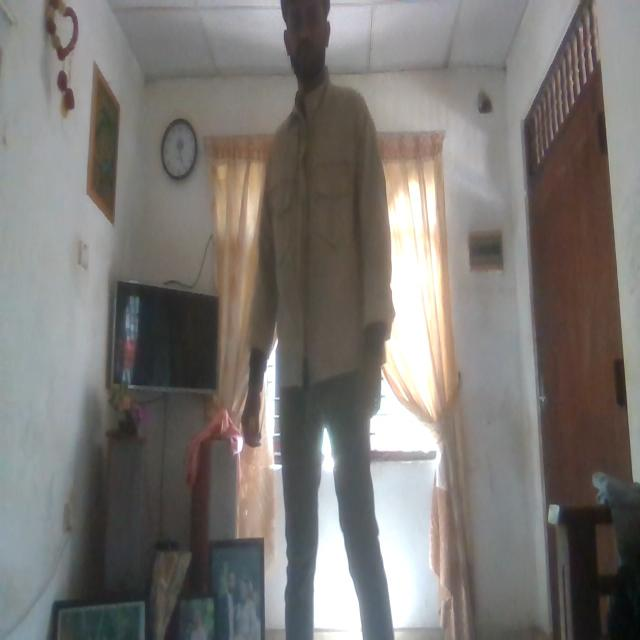Jacket_Wearer: (244, 76, 396, 428)
Person: (236, 0, 416, 640)
